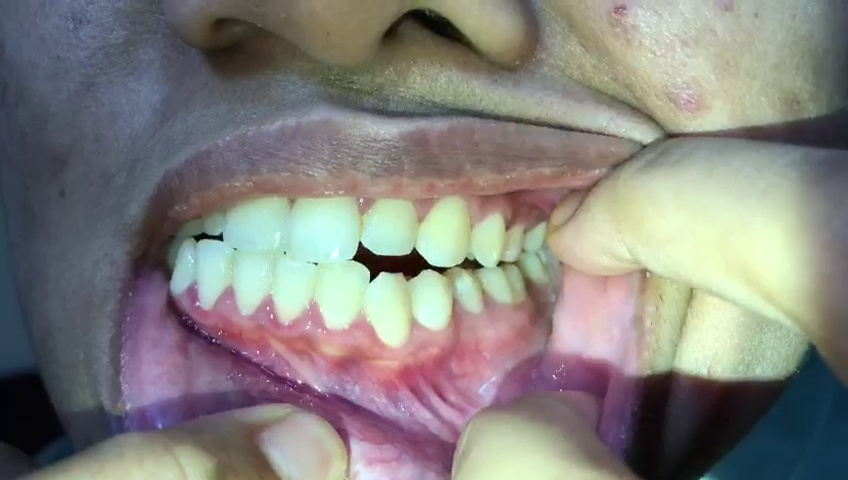1st Molar: (480, 268, 510, 302), (522, 217, 546, 256)
1st Premolar: (407, 269, 453, 331), (470, 209, 507, 268)
2nd Molar: (505, 265, 528, 303)
2nd Premolar: (447, 266, 486, 314), (501, 219, 524, 263)
3rd Molar: (520, 254, 550, 291)
Canine: (416, 195, 470, 267), (365, 271, 413, 350), (168, 239, 195, 299)
Central Incisor: (290, 191, 361, 263), (224, 184, 290, 255), (269, 256, 315, 325), (231, 247, 272, 317)
Lateral Incisor: (313, 258, 368, 333), (361, 194, 417, 254), (196, 239, 230, 317)
